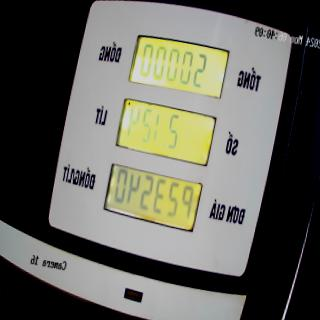screen: (98, 28, 232, 235)
